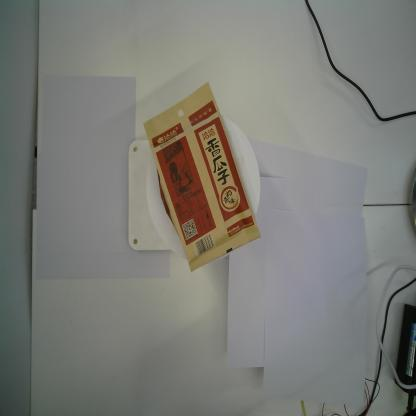Dried Food: (144, 82, 261, 273)
